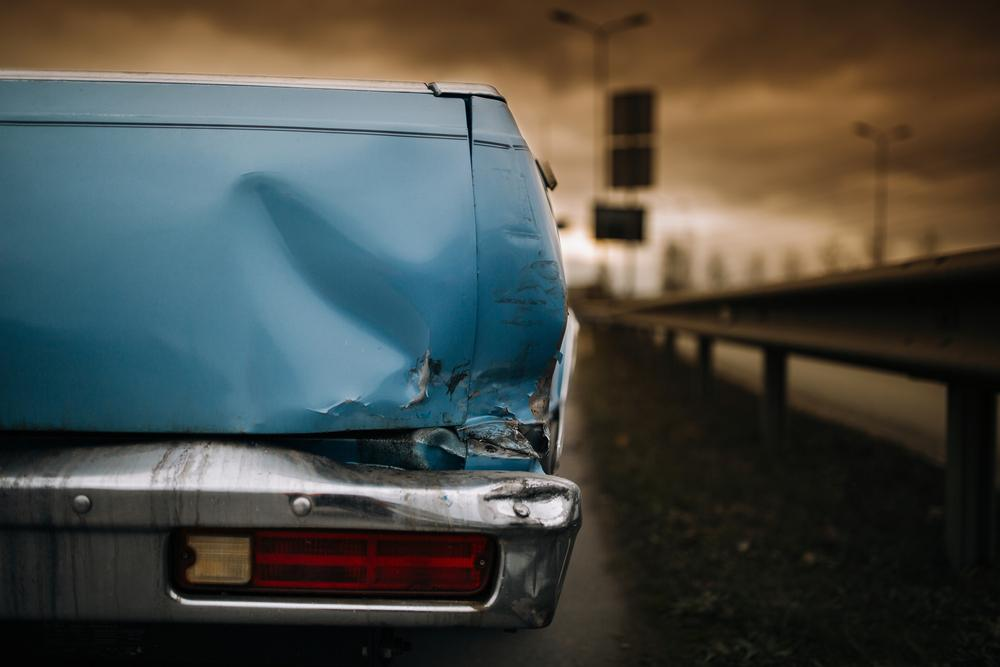dent: (200, 182, 556, 429), (478, 483, 573, 524)
